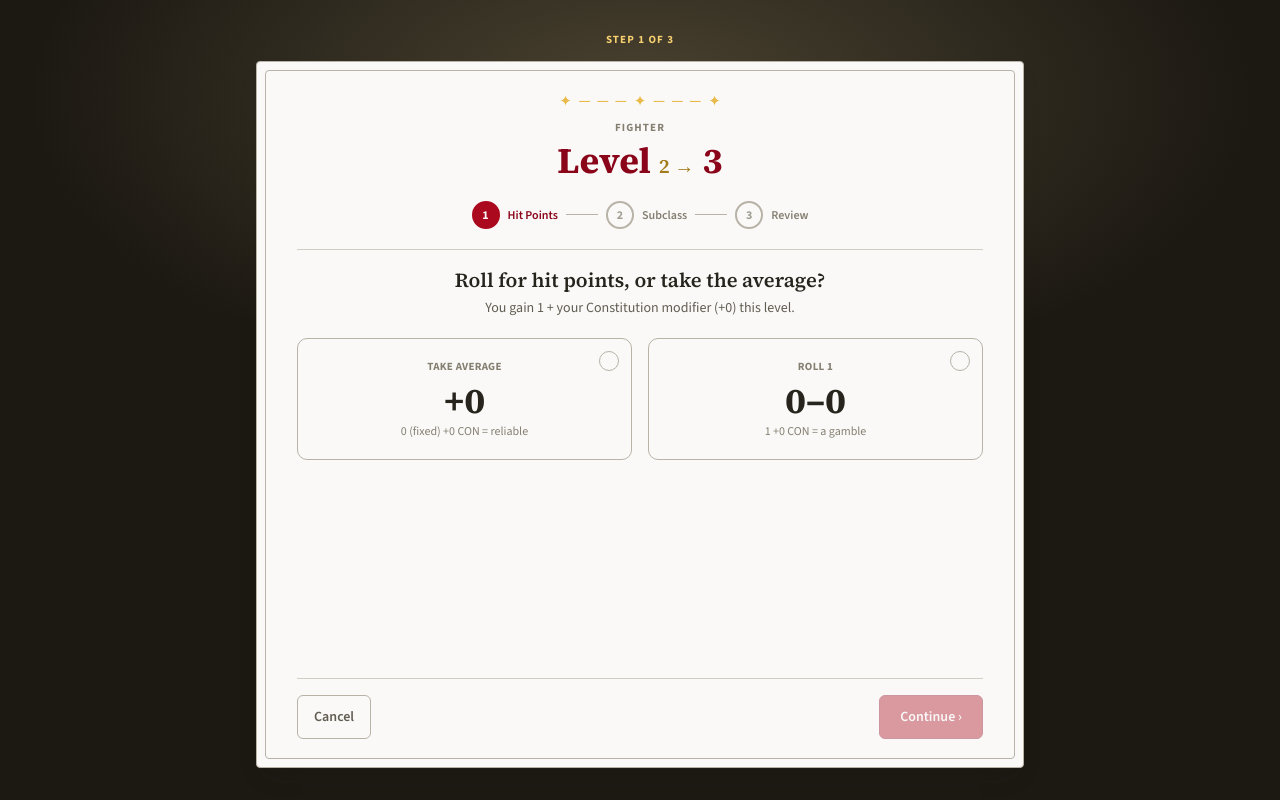
Test: SubclassStep in the ceremony › renders the real subclass cards on the subclass step
This screenshot has width=1280, height=800.
Expected: the text "Step 1 of 3" is shown, [606,32,674,47]
Click the button "Take average +0 0 (fixed) +0 CON = reliable" at (464, 399), box [297,338,632,460]
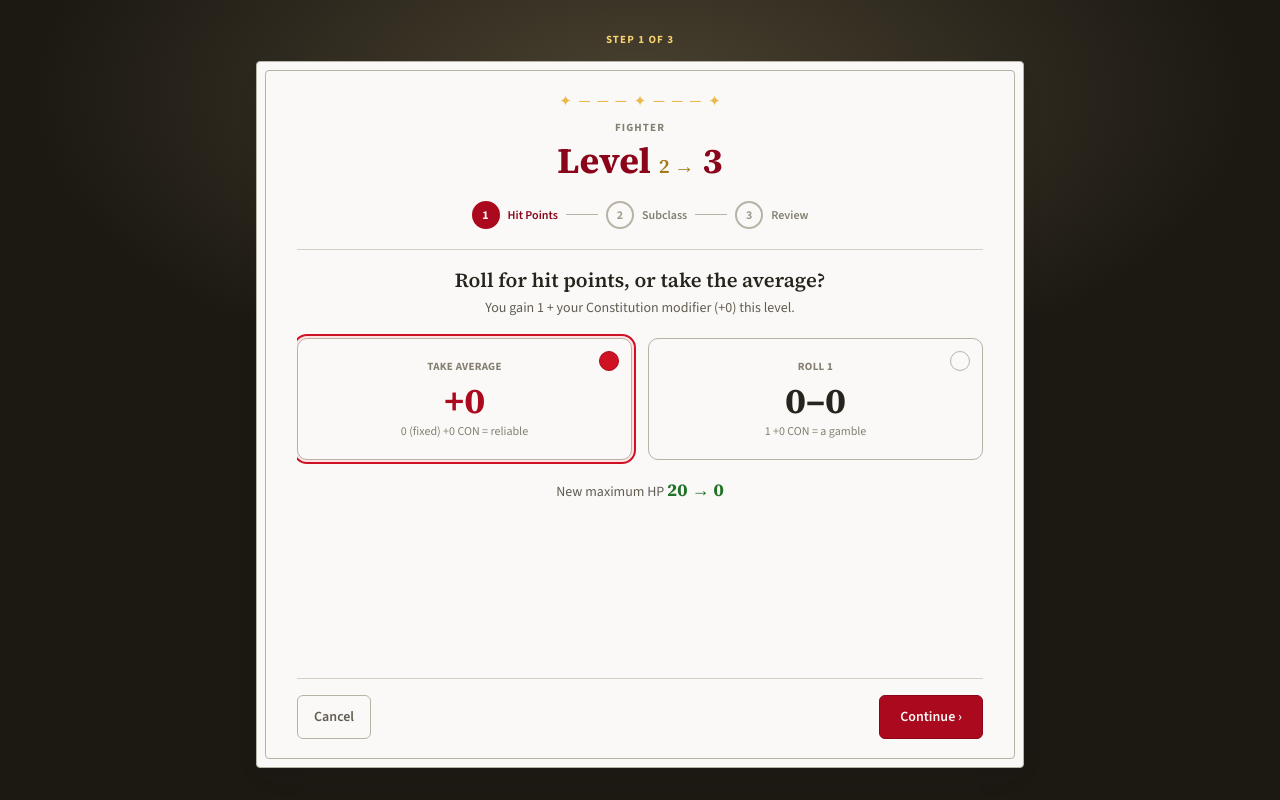
Click the button "Continue ›" at (931, 717), box [879,695,983,739]
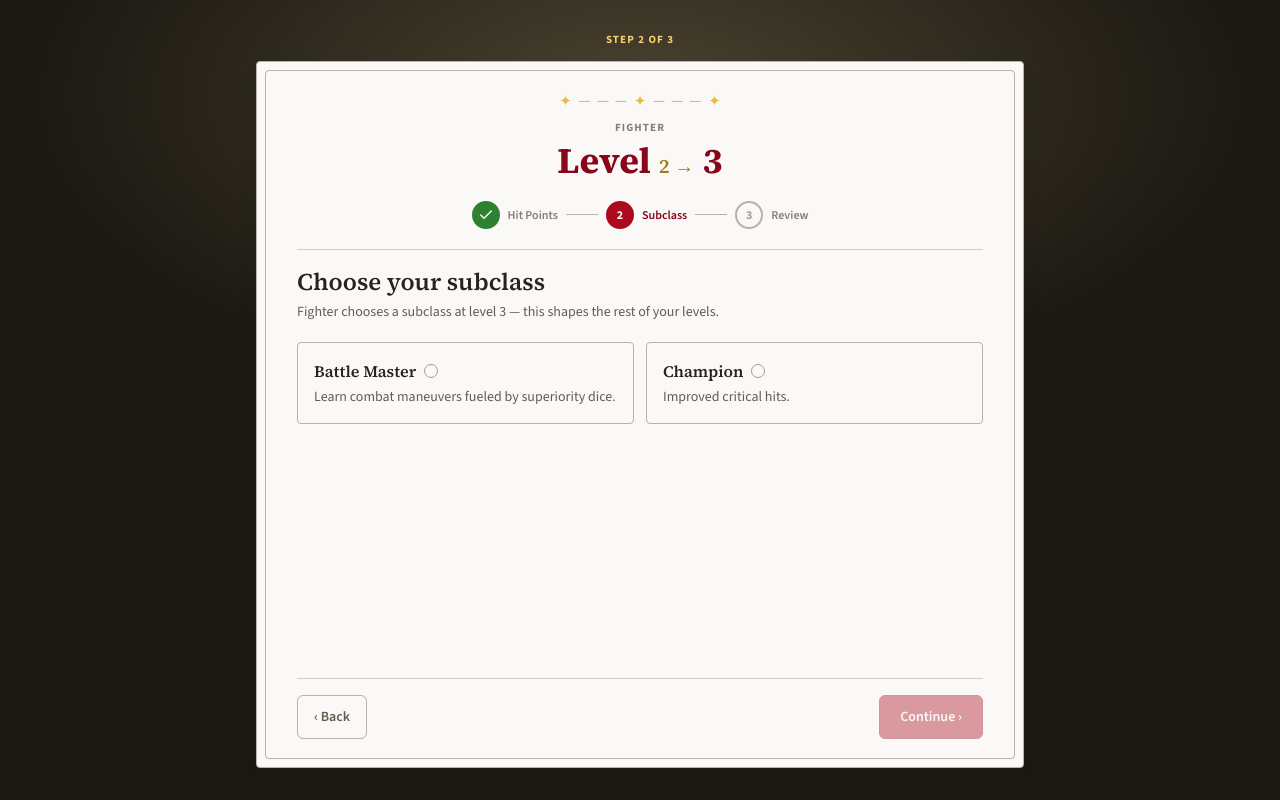
Expected: the radio button labelled "Battle Master" is shown, [297,342,634,424]
Expected: the radio button labelled "Champion" is shown, [646,342,983,424]
